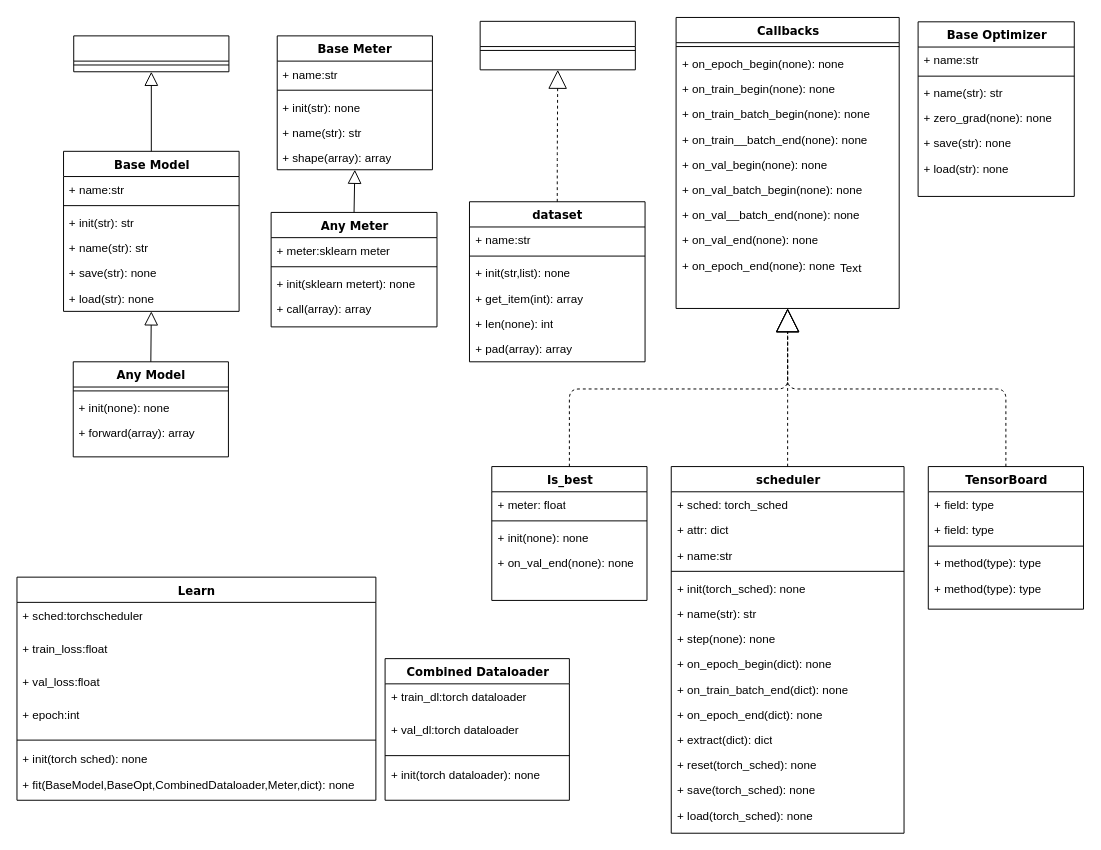
Image size: 1101x850. Some labels were removed from this diagram. The centre of each missing label's shape, as x and y in pixels:
nn.Module: pixel 151 53
Torch Dataset: pixel 557 45
